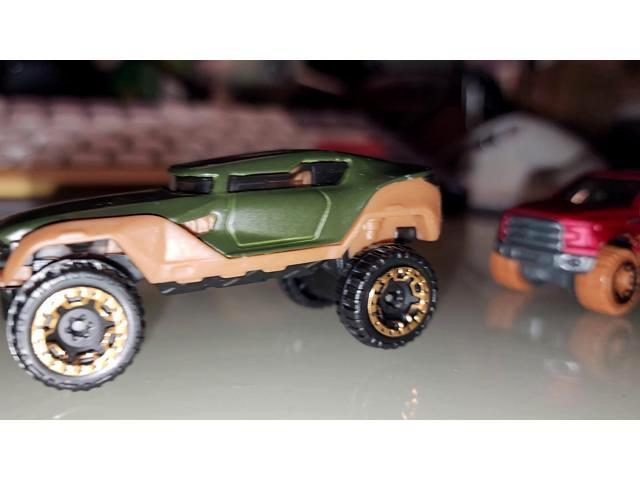toy-car: (1, 145, 445, 395), (488, 165, 640, 315)
